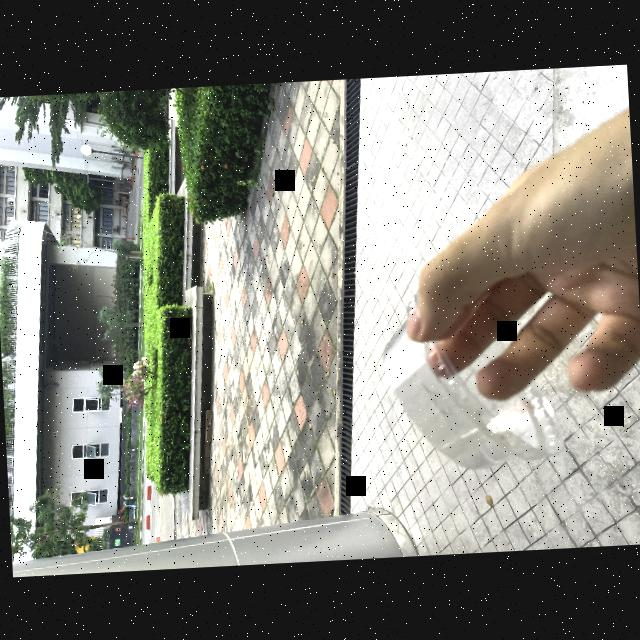plastic_cup_lid: (366, 278, 568, 480)
